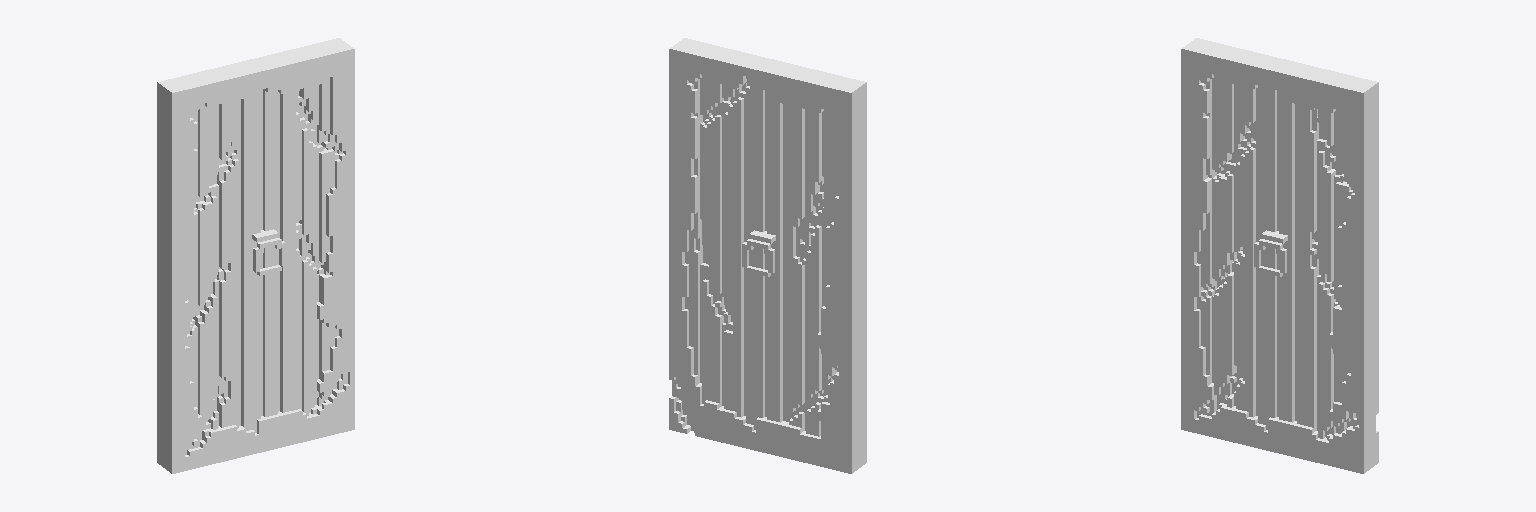
Rendered from puerta_marron.obj.
The picture shows the model from 3 angles: view 1: azimuth 30°, elevation 25°; view 2: azimuth 150°, elevation 25°; view 3: azimuth 330°, elevation 25°; orthographic projection.
Visible parts, largest first — view 1: object 1; view 2: object 1; view 3: object 1.
Boxes of the visible parts, x1=… form: object 1: x1=157, y1=38, x2=354, y2=473; object 1: x1=669, y1=38, x2=866, y2=473; object 1: x1=1181, y1=38, x2=1378, y2=473.
Size of the model in its own units: 4.2 by 8.4 by 1.